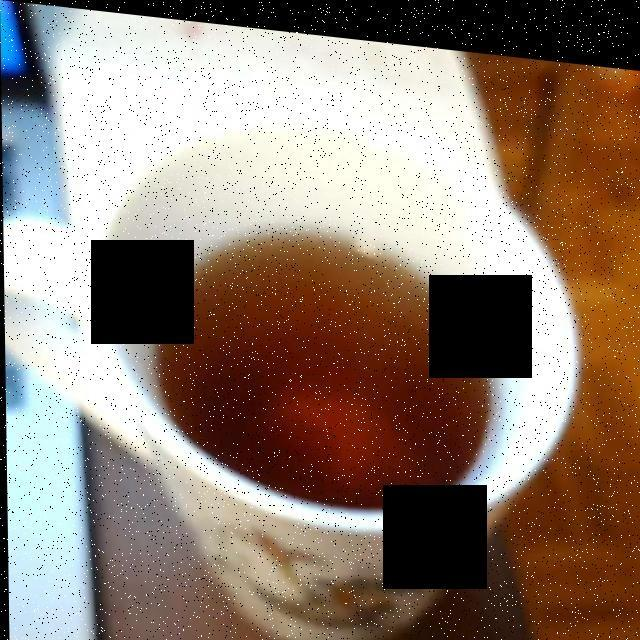tea: (151, 214, 488, 493)
